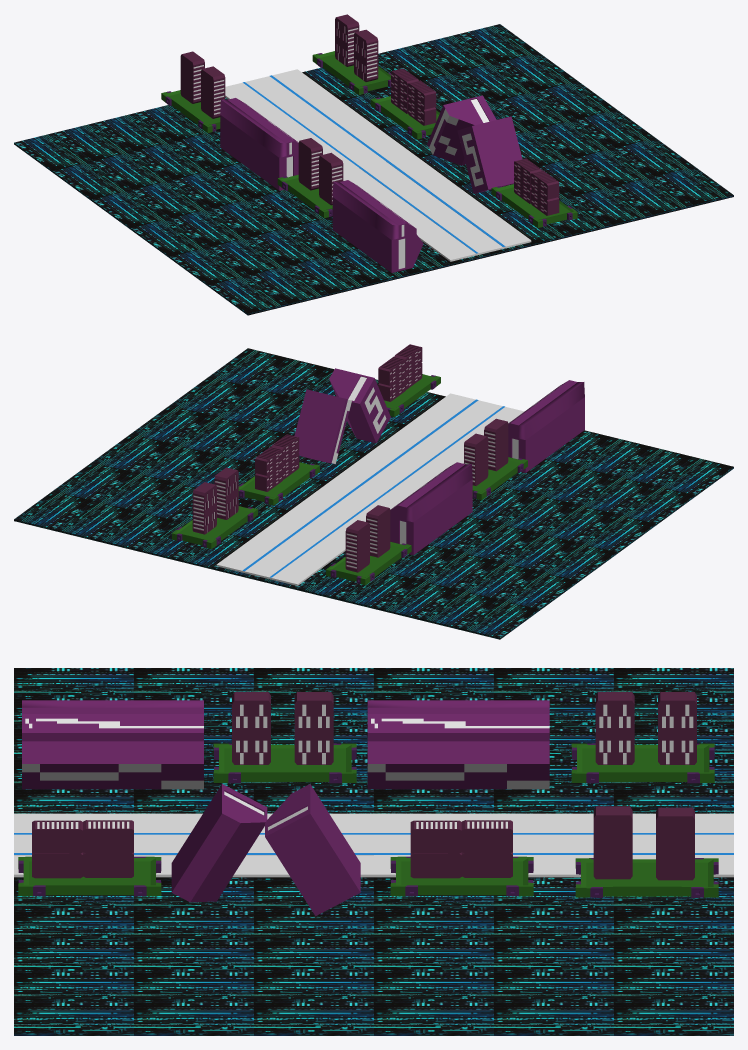
File: 60LengthTileset.fbx
3 renders of one model, top to bottom at view 1: azimuth 30°, elevation 25°; view 2: azimuth 150°, elevation 25°; view 3: azimuth 270°, elevation 25°, orthographic. The views are drawn at different scales.
Visible parts, largest first — view 1: Cube.021, Cube.091, Cube.094, Cube.081, Cube.082, Cube.037, Cube.040, Cube.028, Cube.030, Cube.034, Cube.036, Cube.038 (+58 smaller); view 2: Cube.021, Cube.094, Cube.091, Cube.082, Cube.081, Cube.063, Cube.064, Cube.065, Cube.067, Cube.066, Cube.062, Cube.039 (+58 smaller); view 3: Cube.021, Cube.094, Cube.091, Cube.082, Cube.081, Cube.093, Cube.092, Cube.040, Cube.041, Cube.042, Cube.019, Cube.061 (+67 smaller).
Boxes of the visible parts, x1,y1,x2,y2 form: Cube.021: (225, 69, 531, 261); Cube.091: (332, 181, 423, 272); Cube.094: (220, 99, 298, 190); Cube.081: (457, 116, 522, 193); Cube.082: (427, 95, 496, 165); Cube.037: (209, 275, 288, 315); Cube.040: (655, 166, 733, 206); Cube.028: (290, 255, 369, 295); Cube.030: (250, 265, 328, 305); Cube.034: (614, 176, 693, 216); Cube.036: (574, 186, 652, 226); Cube.038: (131, 218, 209, 258); Cube.021: (216, 393, 524, 585); Cube.094: (390, 464, 472, 555); Cube.091: (508, 382, 584, 472); Cube.082: (294, 389, 351, 463); Cube.081: (329, 368, 390, 443); Cube.063: (459, 599, 538, 639); Cube.064: (95, 510, 173, 550); Cube.065: (54, 500, 133, 540); Cube.067: (378, 580, 457, 619); Cube.066: (419, 589, 498, 629); Cube.062: (14, 491, 92, 530); Cube.039: (616, 485, 694, 525); Cube.021: (14, 813, 733, 877); Cube.094: (367, 700, 549, 789); Cube.091: (22, 700, 203, 789); Cube.082: (265, 784, 360, 916); Cube.081: (171, 784, 267, 902); Cube.093: (367, 707, 549, 741); Cube.092: (22, 707, 203, 741); Cube.040: (14, 1002, 133, 1035); Cube.041: (134, 1002, 253, 1035); Cube.042: (254, 1002, 373, 1035); Cube.019: (374, 1002, 493, 1035); Cube.061: (494, 1002, 613, 1035).
Bounding box in the file's own units: 144 × 120 × 19.51.
